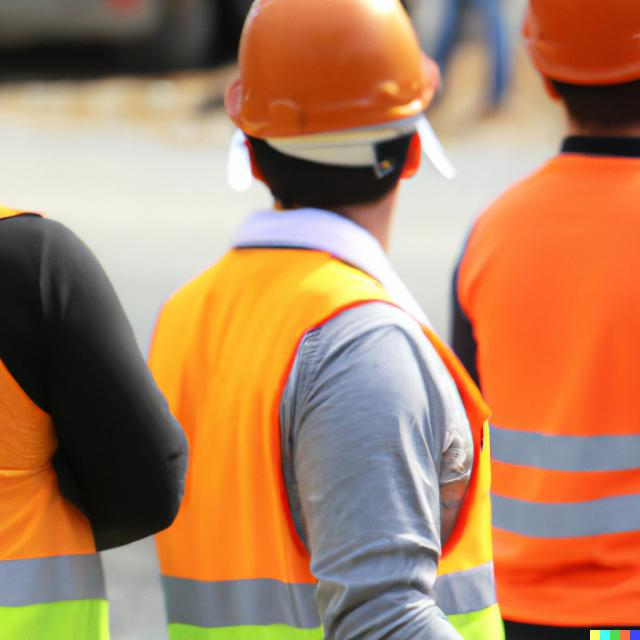Reflective-Jacket: (137, 240, 397, 640), (462, 144, 636, 636), (0, 165, 110, 640)
Safety-Helmet: (222, 3, 440, 148), (514, 0, 640, 90)
